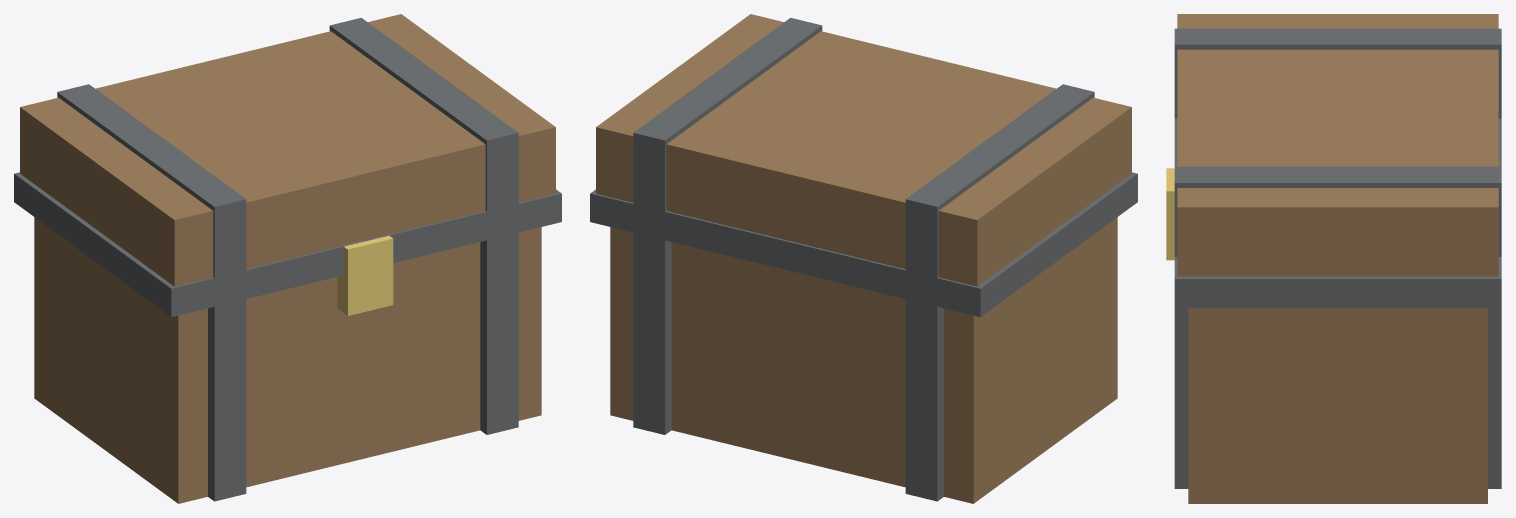
The model's file is chest.glb.
3 views of the same model, side by side, from view 1: azimuth 30°, elevation 25°; view 2: azimuth 150°, elevation 25°; view 3: azimuth 270°, elevation 25° (orthographic). The views are drawn at different scales.
Visible parts, largest first — view 1: chest; view 2: chest; view 3: chest.
Part boxes in pixels (x1,y1,x2,y2): chest: [14, 14, 561, 503]; chest: [590, 14, 1137, 503]; chest: [1166, 14, 1501, 503].
Size of the model in its own units: 0.86 by 0.62 by 0.615.
